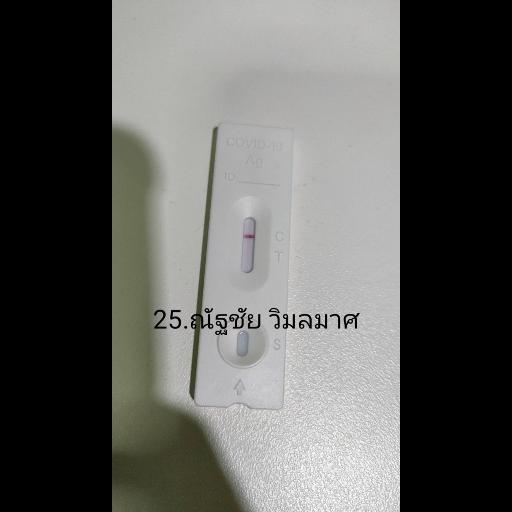Neg: (192, 119, 297, 409)
